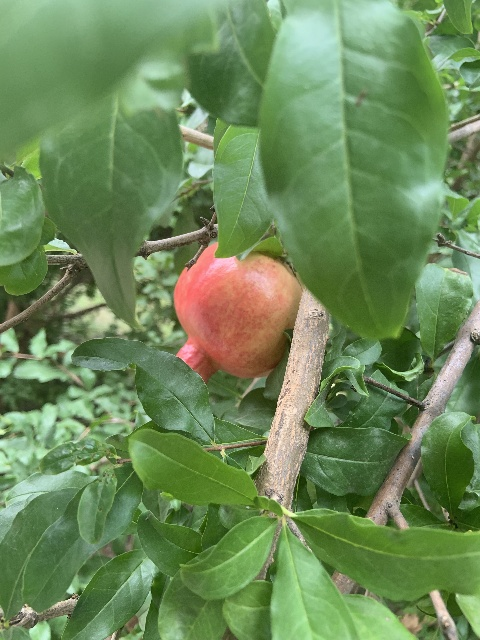ripe: (172, 241, 301, 383)
